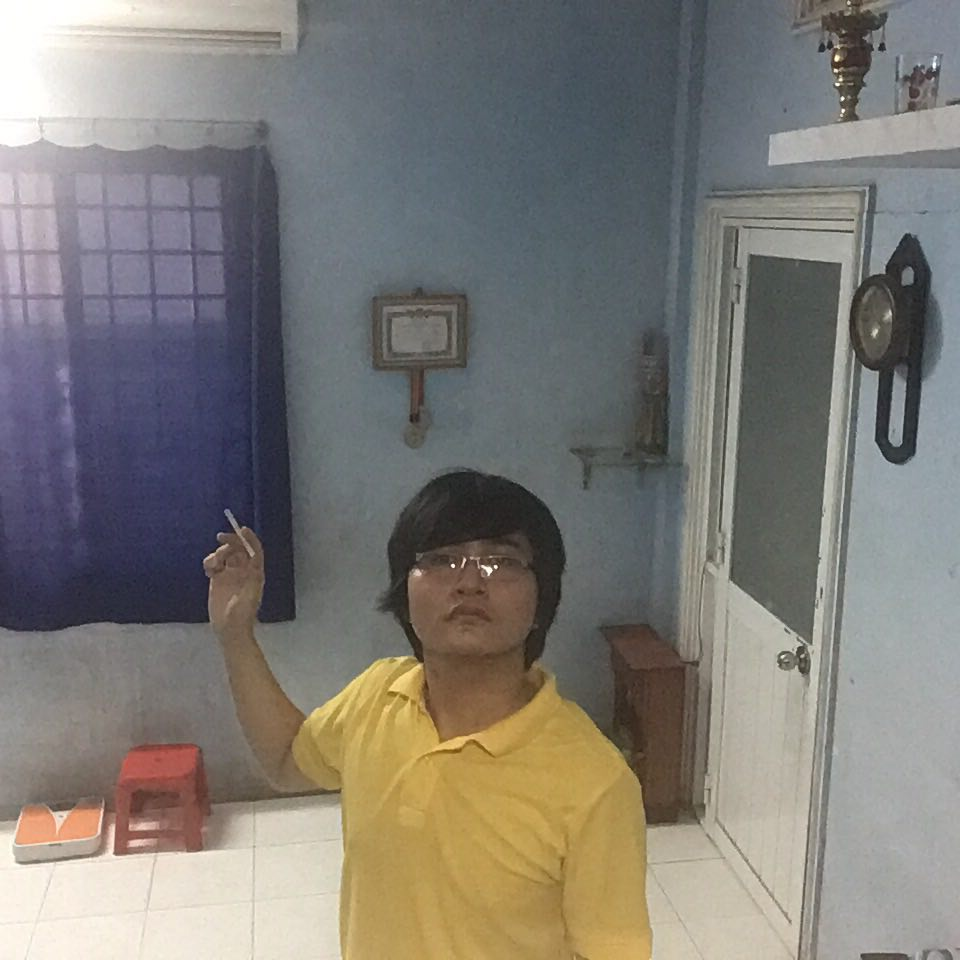cigarette: (217, 504, 246, 533)
person: (196, 461, 672, 960)
